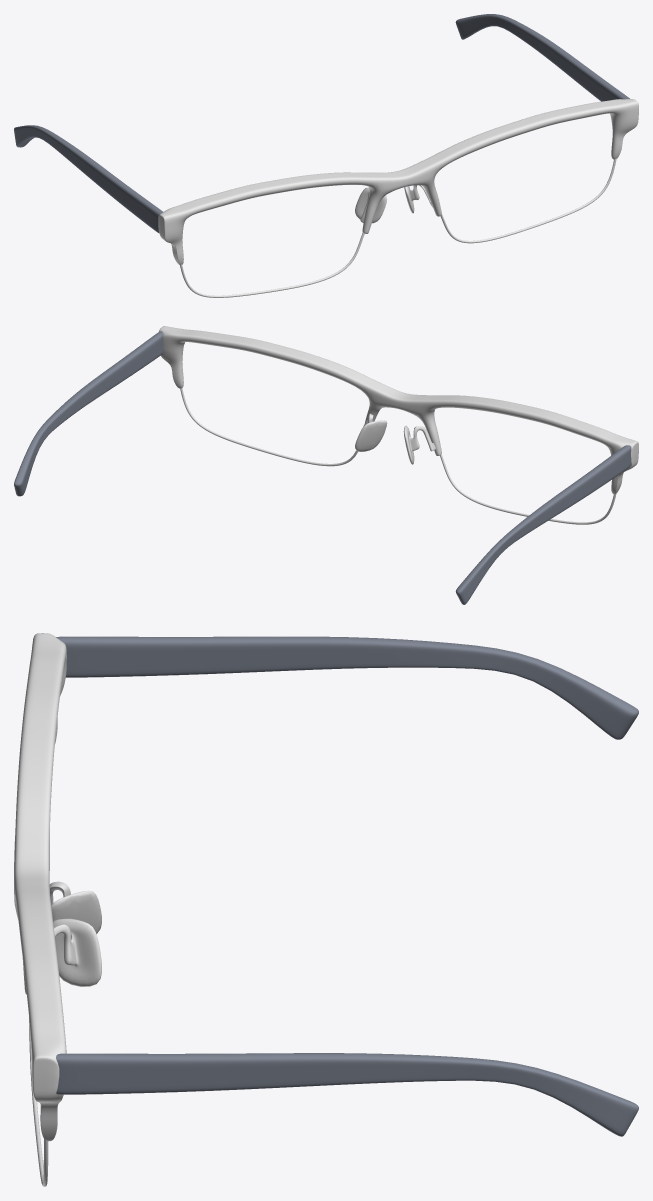
File: glasses.fbx
The picture shows the model from 3 angles, top to bottom: view 1: azimuth 30°, elevation 25°; view 2: azimuth 150°, elevation 25°; view 3: azimuth 270°, elevation 25°; orthographic projection. The views are drawn at different scales.
Parts seen in each view (by area): view 1: Cube.002; view 2: Cube.002; view 3: Cube.002.
Part boxes in pixels (x1,y1,x2,y2): Cube.002: (14, 14, 638, 297); Cube.002: (14, 326, 638, 604); Cube.002: (14, 633, 638, 1186).
Size of the model in its own units: 432 by 95.46 by 269.
